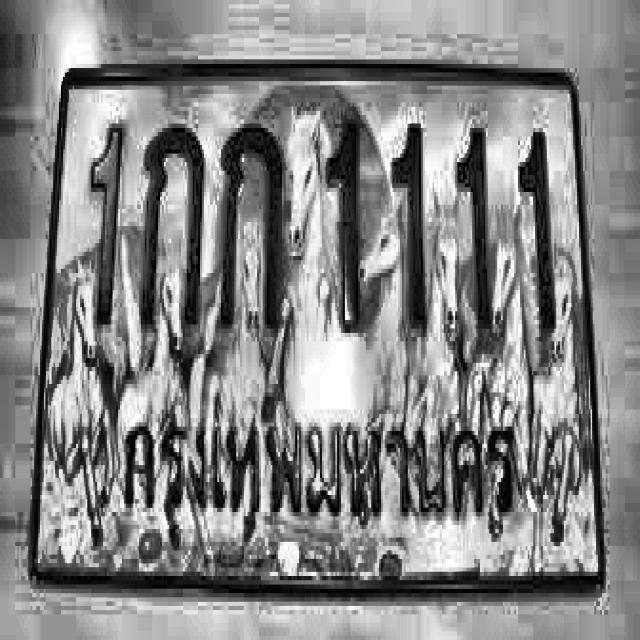license-plate: (8, 44, 625, 618)
